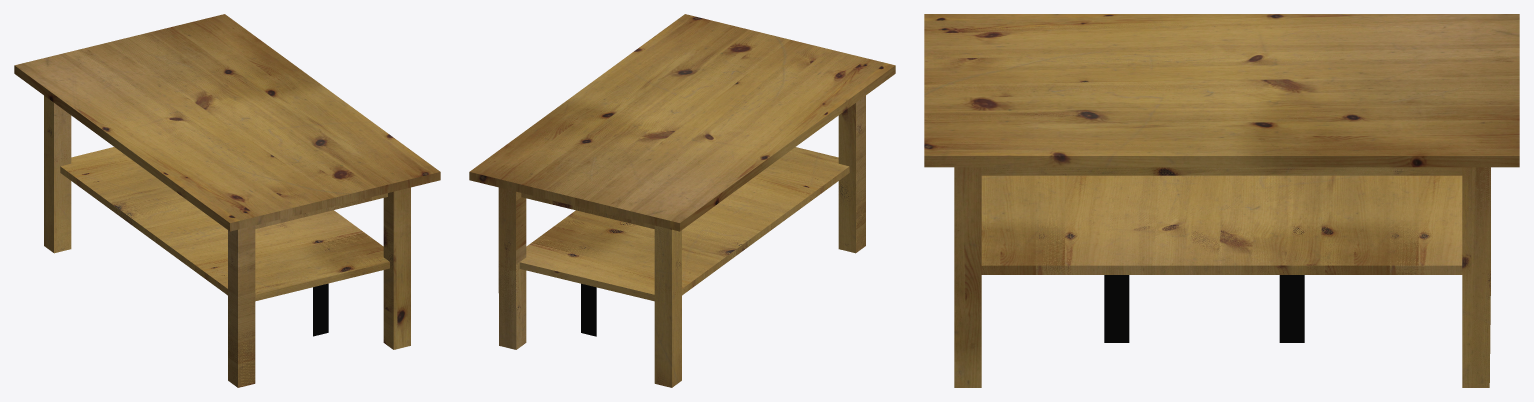
Rendered from table_living_room.dae.
3 renders of one model, left to right at view 1: azimuth 30°, elevation 25°; view 2: azimuth 150°, elevation 25°; view 3: azimuth 270°, elevation 25°, orthographic. The views are drawn at different scales.
Visible parts, largest first — view 1: SketchUp (×3); view 2: SketchUp (×3); view 3: SketchUp (×4).
Boxes of the visible parts, x1,y1,x2,y2 form: SketchUp (×3): (14, 14, 440, 387); SketchUp (×3): (469, 14, 895, 387); SketchUp (×4): (924, 14, 1519, 387).
Size of the model in its own units: 0.6703 by 1.19 by 0.5396.
2 materials, 1 textured.
